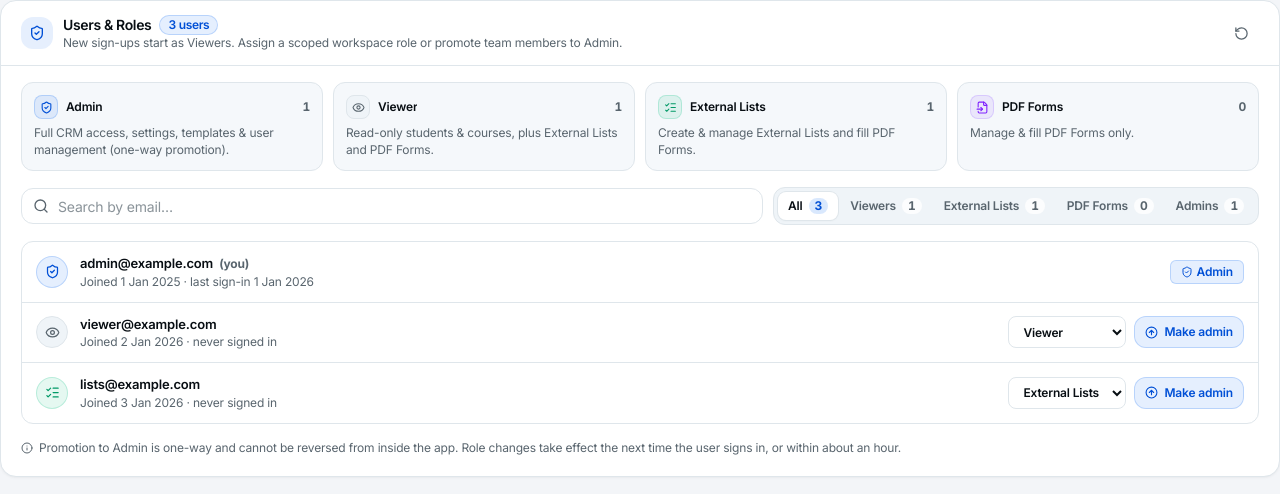
Test: UserRolesSection › filters by role
This screenshot has width=1280, height=494.
Click the tab "Viewers 1" at (886, 206), box [840,192,932,220]
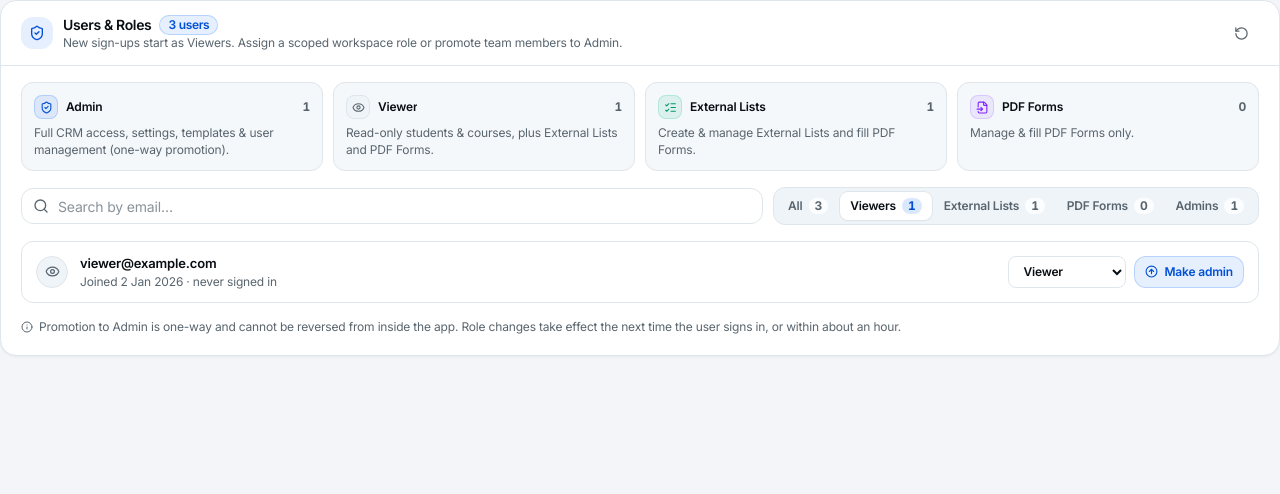
Expected: the text "viewer@example.com" is shown, [80,255,216,271]
Now the number of list items with test id "app-user-row" is 1, box [36,255,1244,288]
